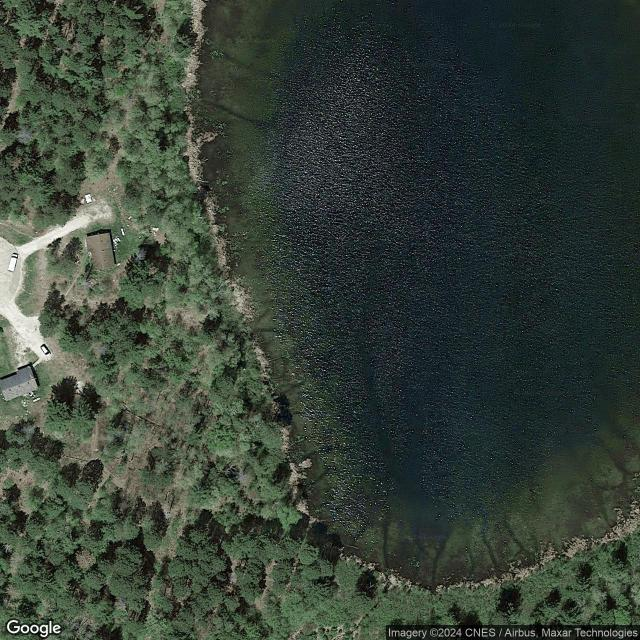Propane: (31, 396, 41, 403), (120, 226, 126, 237)
